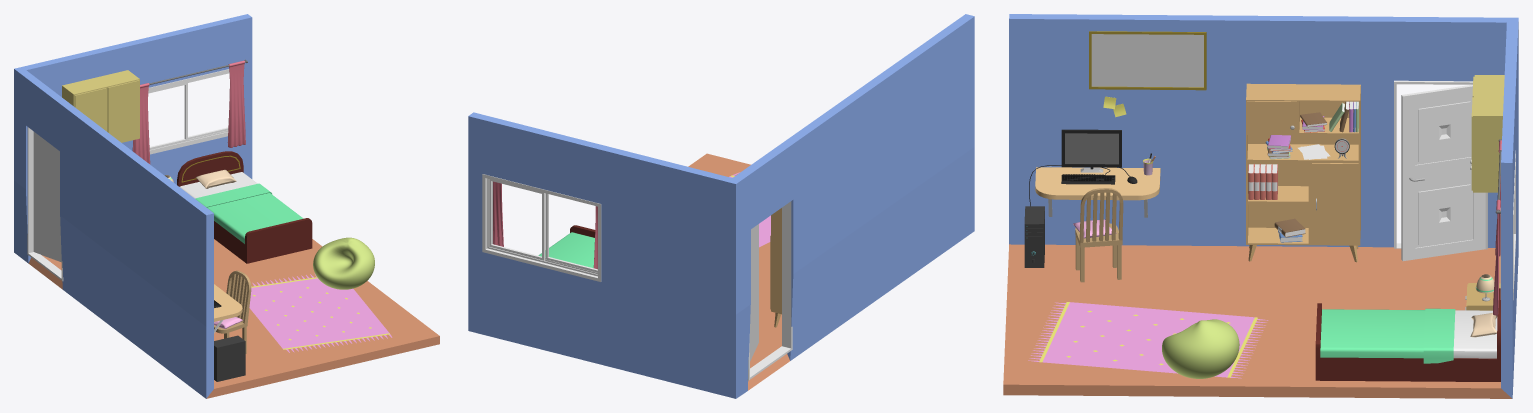
The model's file is bedroom.glb.
3 views of the same model, side by side, from view 1: azimuth 30°, elevation 25°; view 2: azimuth 150°, elevation 25°; view 3: azimuth 270°, elevation 25° (orthographic). The views are drawn at different scales.
Visible parts, largest first — view 1: Walls, Bed, Carpet, HangingCupboard, Door, BeanBagChair, Curtains, Window, CPU, DoorFrame, Chair, Table (+1 smaller); view 2: Walls, Window, DoorFrame, Bed, Bookshelf, Door, Curtains; view 3: Walls, Bookshelf, Bed, Door, Carpet, PhotoFrame, HangingCupboard, BeanBagChair, Table, Chair, Monitor, CPU (+5 smaller).
Boxes of the visible parts, x1,y1,x2,y2 form: Walls: (14,14,439,398); Bed: (177,151,312,263); Carpet: (249,273,392,353); HangingCupboard: (62,70,139,142); Door: (33,132,61,262); BeanBagChair: (313,237,374,289); Curtains: (132,60,245,164); Window: (148,69,229,154); CPU: (214,335,245,381); DoorFrame: (27,127,63,281); Chair: (214,270,251,353); Table: (214,284,242,333); Walls: (468,14,974,398); Window: (482,174,601,281); DoorFrame: (747,201,792,380); Bed: (538,225,595,267); Bookshelf: (770,208,781,327); Door: (750,224,758,361); Curtains: (493,181,597,269); Walls: (1003,14,1518,398); Bookshelf: (1246,83,1360,262); Bed: (1315,288,1500,381); Door: (1401,84,1485,261); Carpet: (1028,301,1269,378); PhotoFrame: (1089,31,1206,90); HangingCupboard: (1470,75,1504,192); BeanBagChair: (1162,319,1239,378); Table: (1035,166,1160,217); Chair: (1075,188,1123,282); Monitor: (1061,129,1121,172); CPU: (1024,206,1044,267).
Size of the model in its own units: 5.43 by 4.05 by 7.89.
